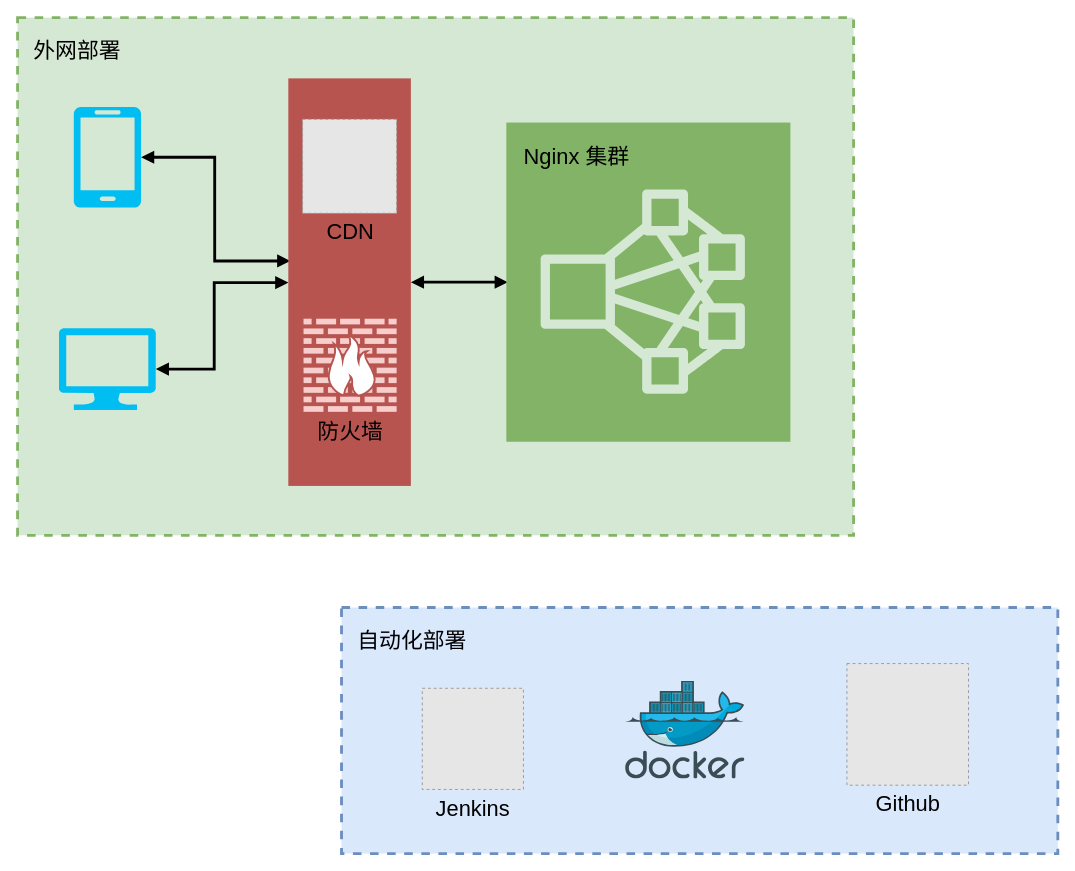
Image size: 1075x871. Some labels were removed from this diagram. Grey dashed boxes stand in for pictures. The centre of each missing label's shape, as x and y in pixels:
Docker: [684,730]
PC端: [106,368]
手机端: [107,156]
